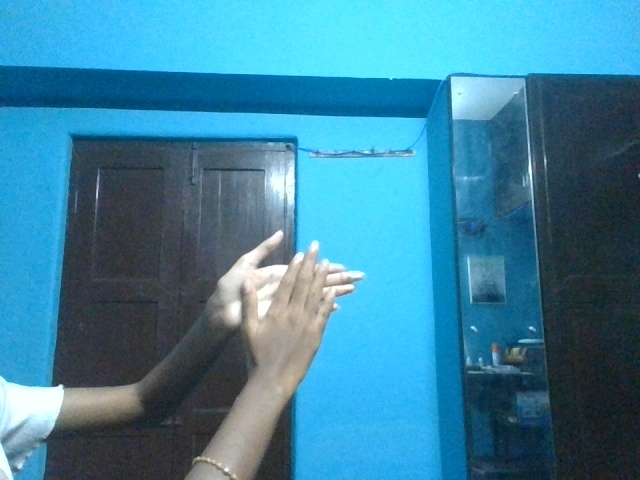H: (201, 224, 368, 368)
